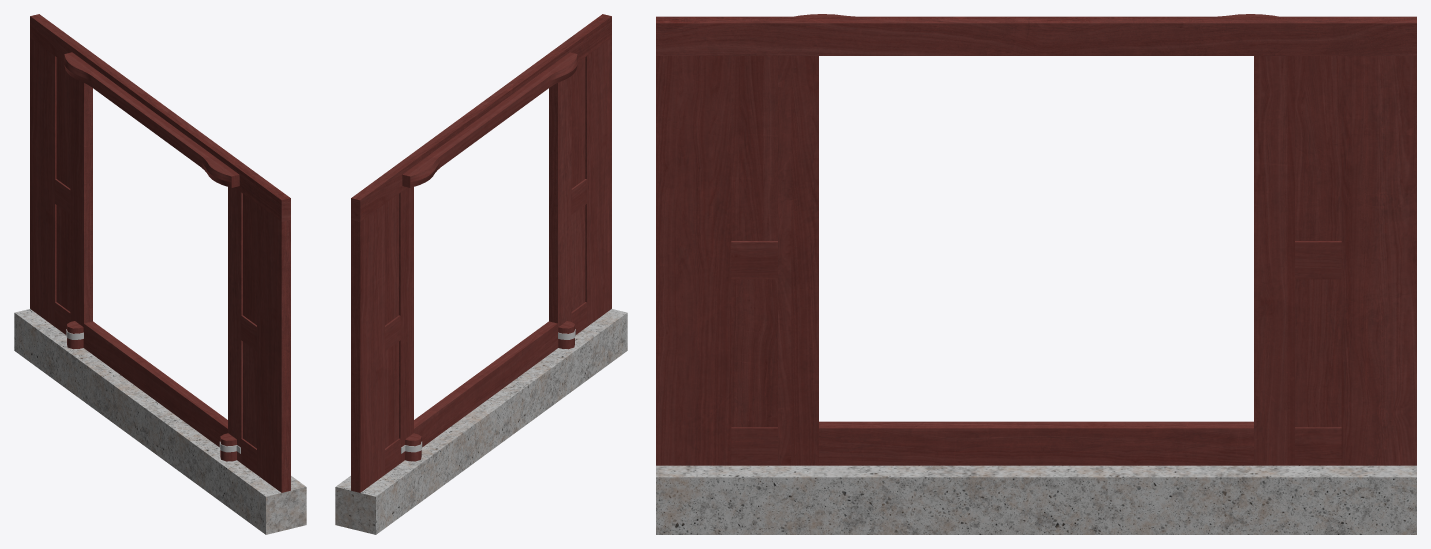
The model's file is SM_DoorFrame02C.fbx.
3 renders of one model, left to right at view 1: azimuth 30°, elevation 25°; view 2: azimuth 150°, elevation 25°; view 3: azimuth 270°, elevation 25°, orthographic. The views are drawn at different scales.
Visible parts, largest first — view 1: SM_DoorFrame02C; view 2: SM_DoorFrame02C; view 3: SM_DoorFrame02C.
Part boxes in pixels (box(x1,y1,x2,y2)): SM_DoorFrame02C: box(14, 14, 306, 534); SM_DoorFrame02C: box(335, 14, 627, 534); SM_DoorFrame02C: box(656, 14, 1416, 534).
Bounding box in the file's own units: 40.01 × 430 × 312.
